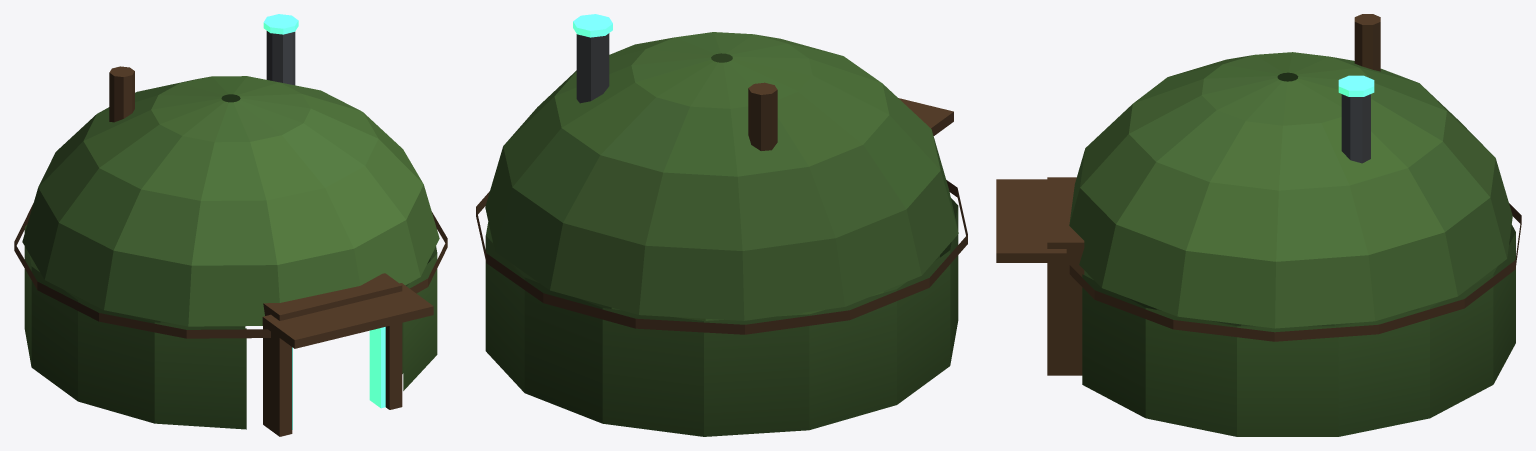
Rendered from shaddai_dist_forest_home_b_v01.glb.
3 views of the same model, side by side, from view 1: azimuth 30°, elevation 25°; view 2: azimuth 150°, elevation 25°; view 3: azimuth 270°, elevation 25° (orthographic). The views are drawn at different scales.
Visible parts, largest first — view 1: shaddai_dist_forest_home_b; view 2: shaddai_dist_forest_home_b; view 3: shaddai_dist_forest_home_b.
Part boxes in pixels (bbox=[...]): shaddai_dist_forest_home_b: bbox=[14, 14, 447, 436]; shaddai_dist_forest_home_b: bbox=[476, 14, 967, 436]; shaddai_dist_forest_home_b: bbox=[996, 14, 1521, 436].
Size of the model in its own units: 13.48 by 9.53 by 14.95.
